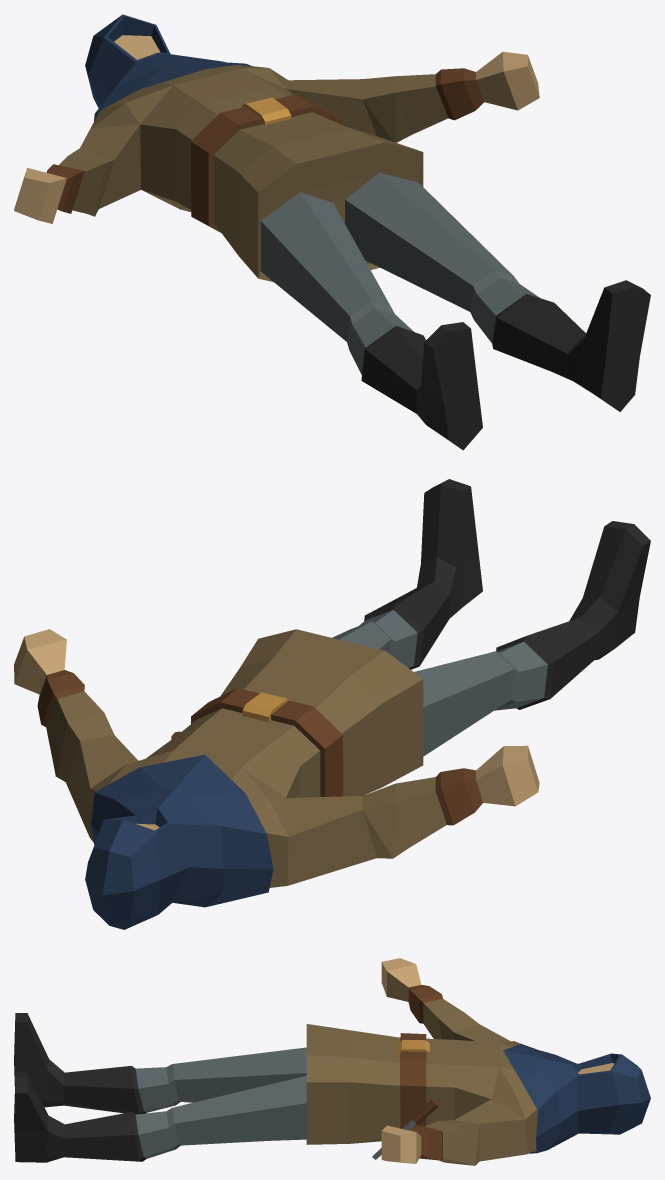
The model's file is archer.fbx.
The picture shows the model from 3 angles, top to bottom: view 1: azimuth 30°, elevation 25°; view 2: azimuth 150°, elevation 25°; view 3: azimuth 270°, elevation 25°; orthographic projection. The views are drawn at different scales.
Visible parts, largest first — view 1: Cylinder, Cube, Cylinder.001, Cylinder.002, Cube.002; view 2: Cylinder, Cube, Cylinder.001, Cylinder.002, Cube.002; view 3: Cylinder, Cube, Cylinder.001, Cylinder.002, Cylinder.003, Cube.002.
Part boxes in pixels (x1,y1,x2,y2): Cylinder: (14,51,650,450); Cube: (85,14,252,121); Cylinder.001: (191,94,342,232); Cylinder.002: (46,68,483,213); Cube.002: (242,97,291,125); Cylinder: (14,479,650,887); Cube: (85,754,273,929); Cylinder.001: (191,688,343,796); Cylinder.002: (37,670,482,825); Cube.002: (242,692,291,721); Cylinder: (14,958,537,1165); Cube: (503,1044,650,1153); Cylinder.001: (400,1033,426,1130); Cylinder.002: (408,985,442,1160); Cylinder.003: (372,1098,438,1159); Cube.002: (397,1040,429,1055).
Bounding box in the file's own units: 80.11 × 20.43 × 116.
